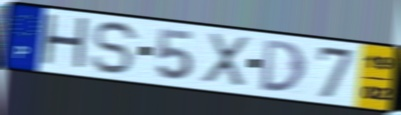5: (155, 26, 197, 81)
7: (315, 43, 356, 100)
D: (259, 38, 308, 94)
H: (38, 11, 91, 74)
S: (89, 19, 144, 77)
X: (199, 30, 253, 91)
